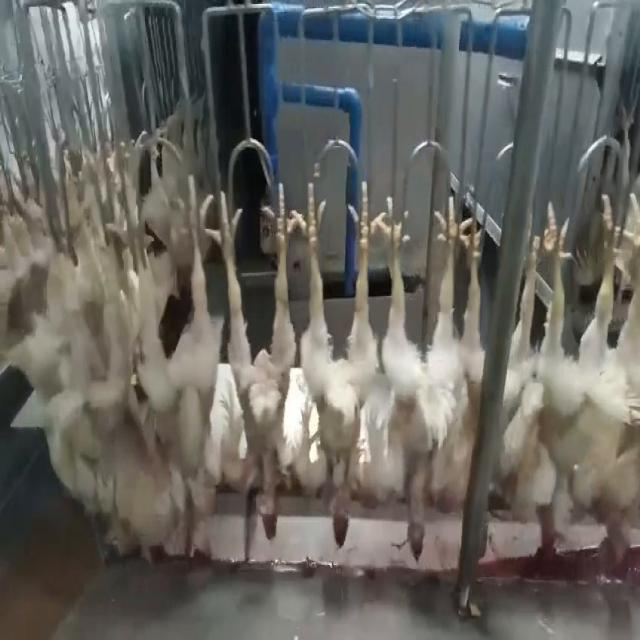chicken: (294, 177, 379, 552), (383, 191, 468, 564), (135, 176, 209, 543), (218, 180, 288, 549), (530, 210, 590, 576), (595, 196, 640, 576), (460, 212, 506, 508)
